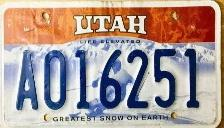0: (43, 49, 67, 111)
1: (73, 47, 94, 112), (184, 47, 204, 111)
2: (126, 47, 153, 110)
5: (153, 47, 178, 110)
6: (98, 48, 124, 109)
A: (15, 49, 41, 113)
